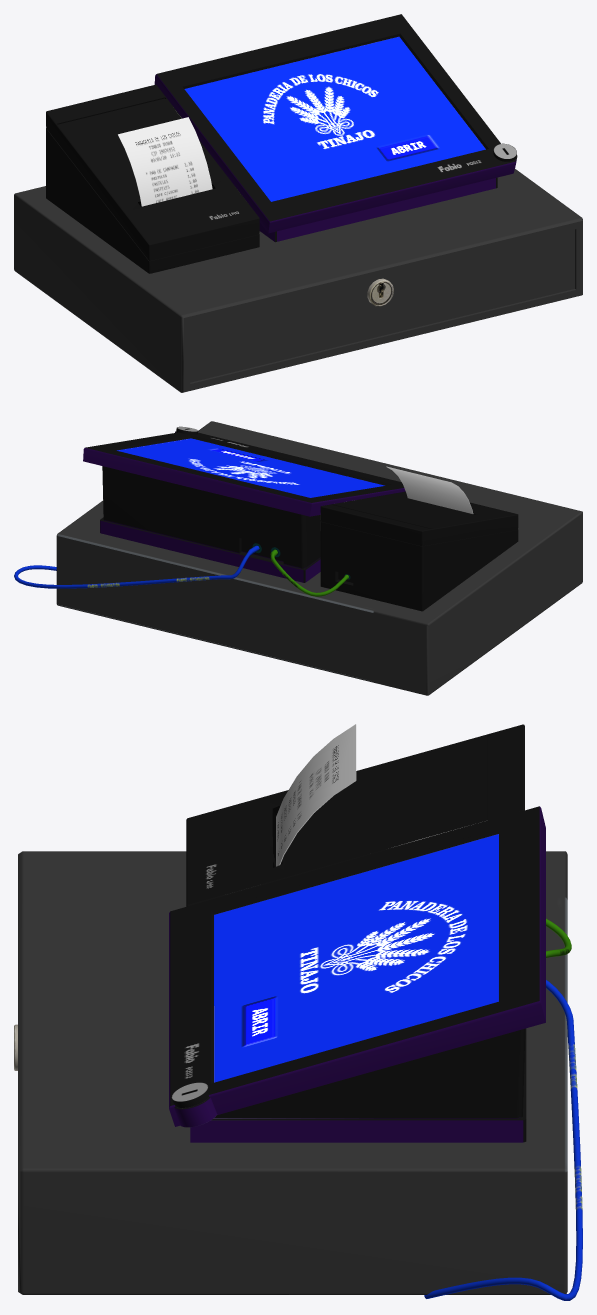
The picture shows the model from 3 angles, top to bottom: view 1: azimuth 30°, elevation 25°; view 2: azimuth 150°, elevation 25°; view 3: azimuth 270°, elevation 25°; orthographic projection. The views are drawn at different scales.
Visible parts, largest first — view 1: cable_1; view 2: cable_1; view 3: cable_1.
Part boxes in pixels (<box>): cable_1: <box>14,14,582,392</box>; cable_1: <box>14,421,582,695</box>; cable_1: <box>14,724,582,1300</box>.
Size of the model in its own units: 5.07 by 1.91 by 3.42.
Materials: 1 (1 with a texture image).
